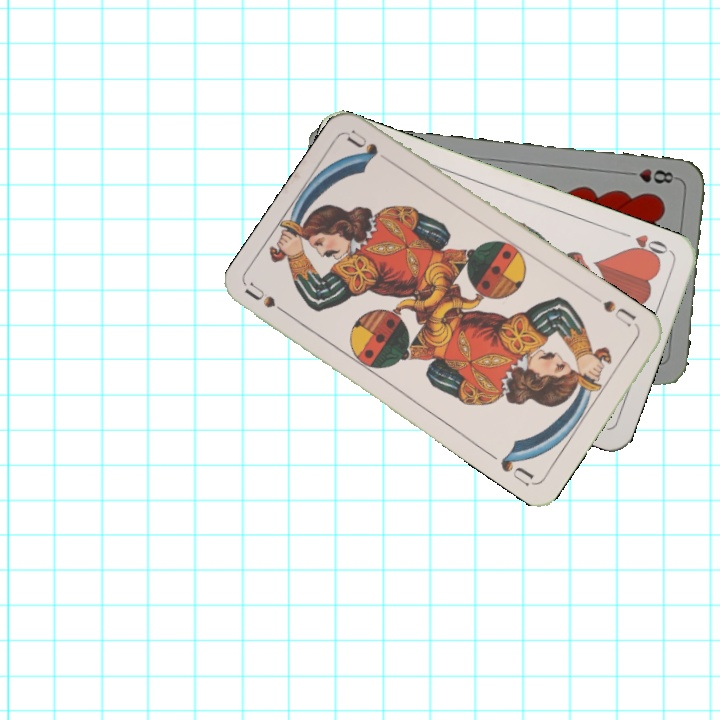H8: (621, 164, 680, 186)
HO: (616, 227, 673, 263)
SU: (242, 279, 297, 322), (589, 291, 642, 331)
